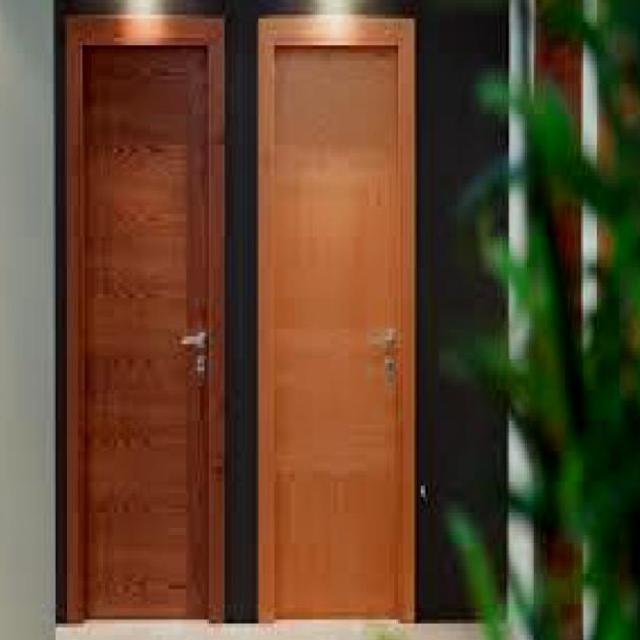door: (62, 14, 228, 622), (256, 12, 416, 623)
